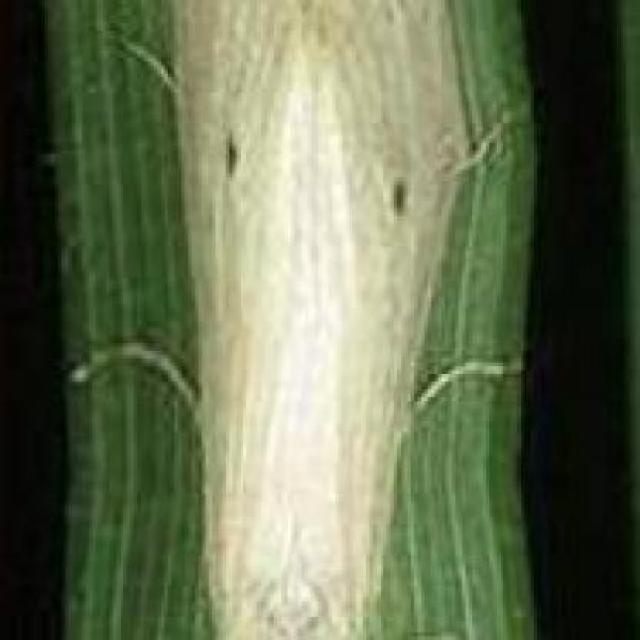stem-borer: (143, 0, 486, 640)
